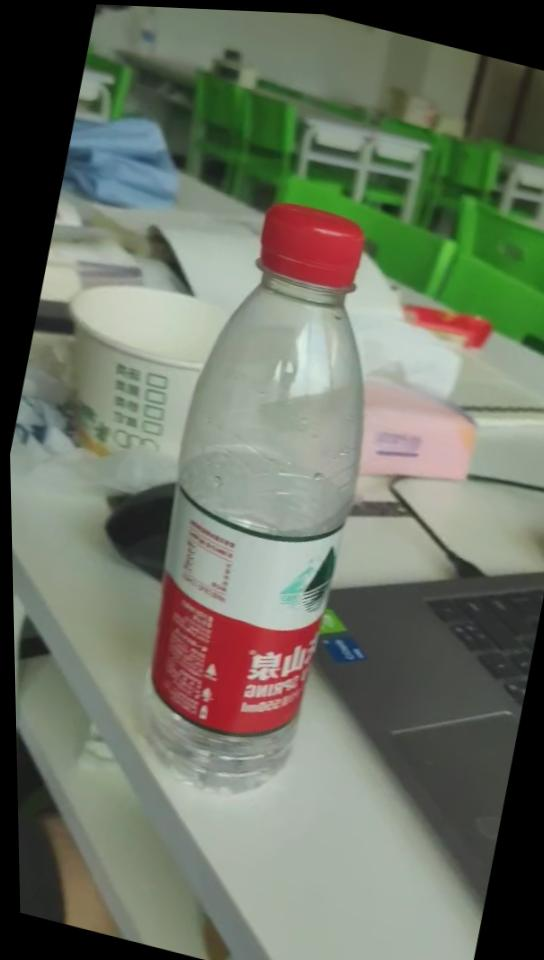plastic: (105, 172, 421, 821)
